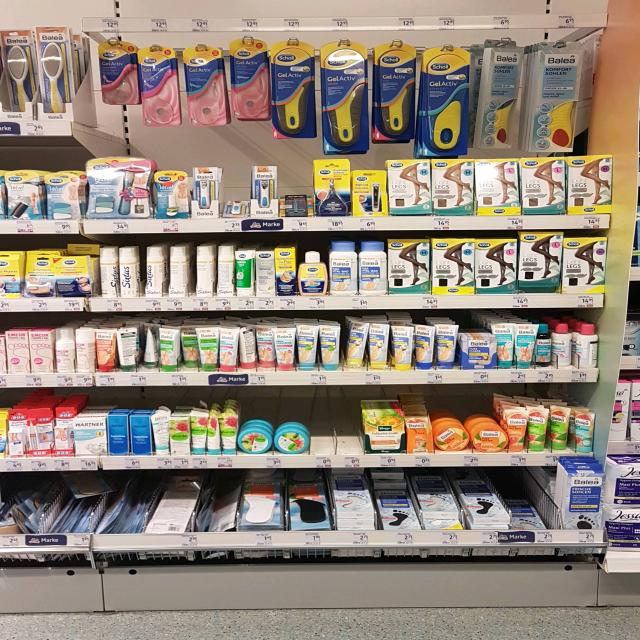void: (316, 403, 358, 454)
